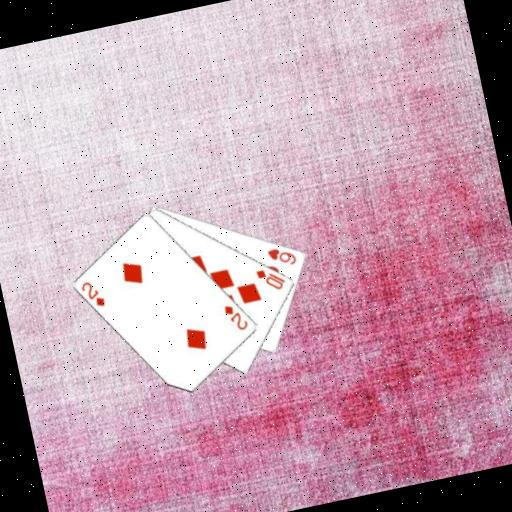10D: (252, 262, 289, 295)
2D: (220, 298, 251, 334), (77, 276, 108, 312)
6H: (263, 241, 299, 271)
